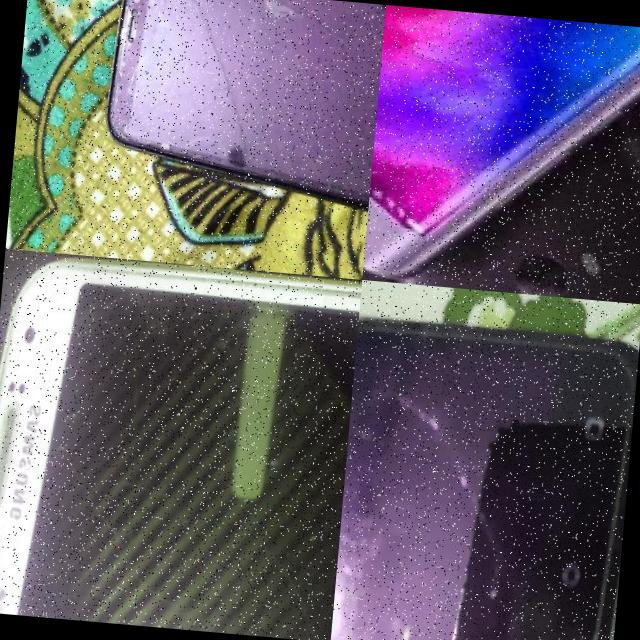screen crack: (329, 349, 636, 640), (0, 372, 211, 615), (102, 0, 307, 194)
